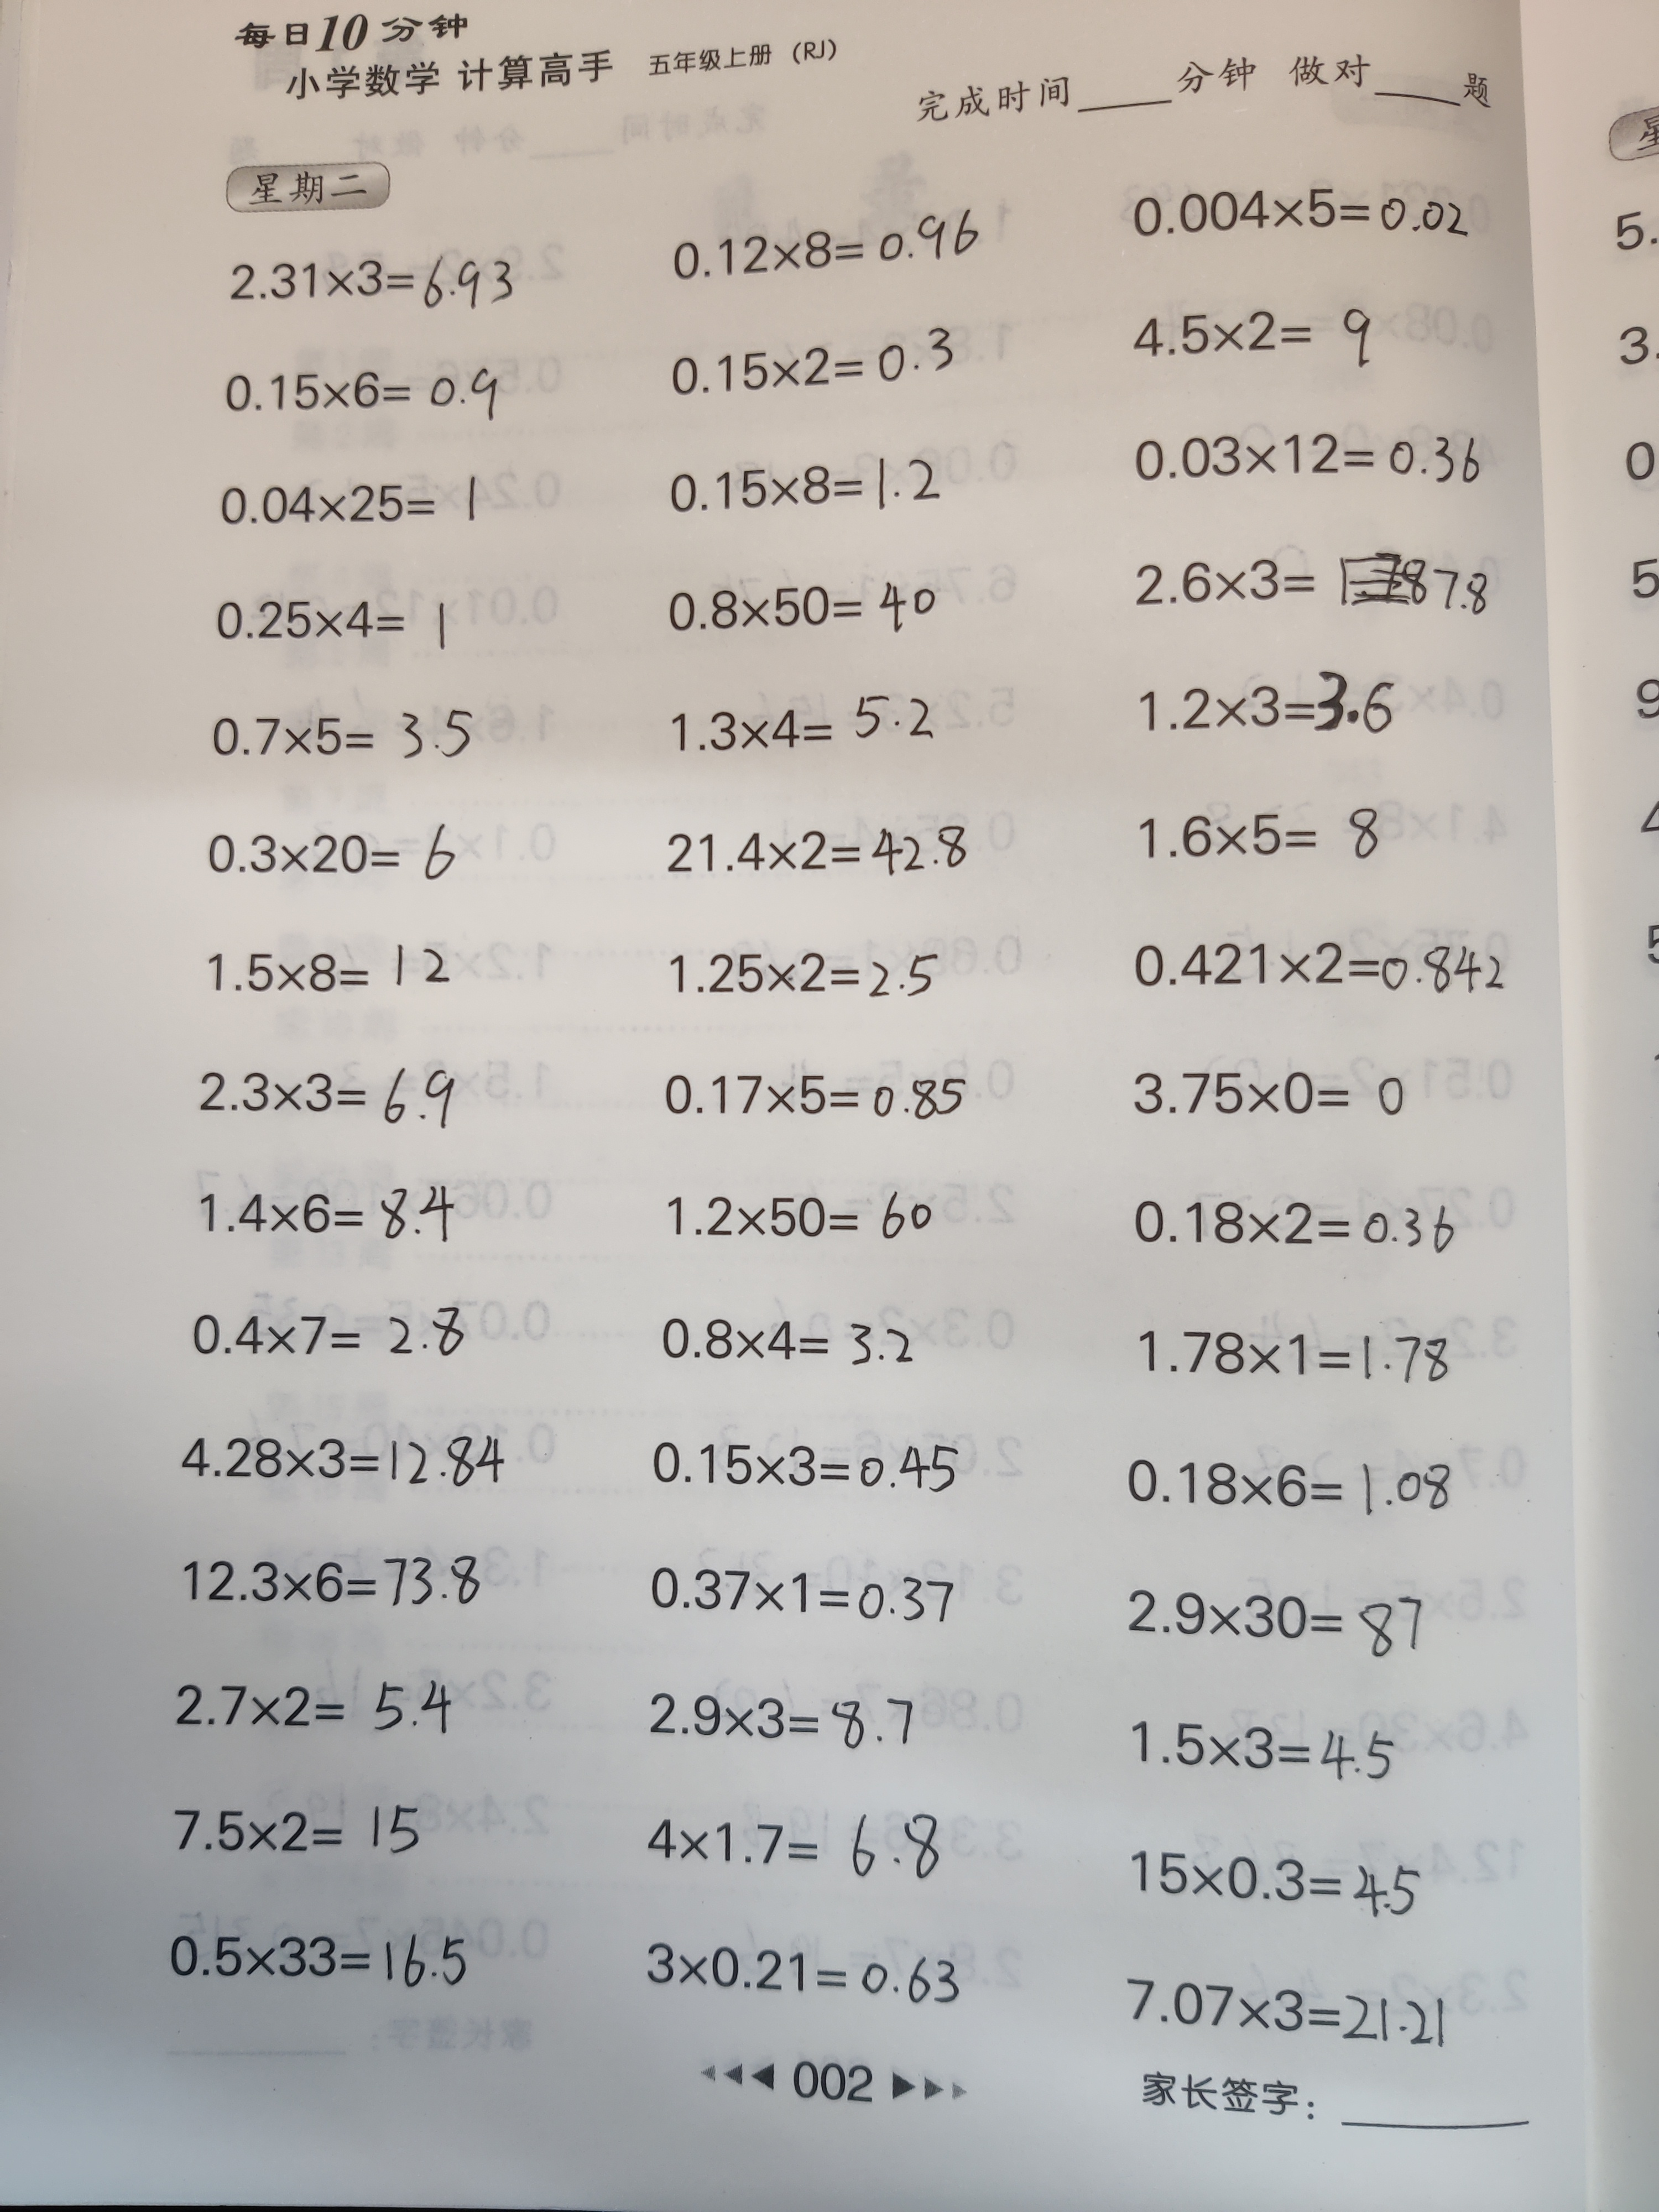equation: (1112, 923, 1523, 1022), (1100, 1954, 1466, 2066), (1117, 169, 1485, 272), (629, 1926, 974, 2034), (160, 1914, 493, 2024), (636, 1799, 962, 1911), (1112, 1440, 1459, 1543), (1101, 1827, 1429, 1933), (1124, 1308, 1462, 1411), (633, 1548, 967, 1651), (1122, 421, 1499, 512), (1117, 1183, 1473, 1277), (174, 1531, 504, 1632), (655, 435, 962, 542), (1117, 293, 1408, 402), (669, 195, 1004, 289), (1114, 1702, 1410, 1806), (1114, 1049, 1420, 1144), (1129, 650, 1415, 752), (655, 930, 958, 1026), (1119, 1585, 1439, 1676), (169, 1416, 516, 1500), (207, 239, 533, 327), (652, 1055, 974, 1144), (636, 1679, 934, 1775), (638, 1301, 939, 1395), (662, 320, 967, 413), (657, 808, 983, 894), (643, 1428, 962, 1515), (166, 1669, 467, 1759), (181, 1291, 484, 1379), (181, 1057, 477, 1146), (211, 463, 497, 554), (650, 1174, 955, 1258), (655, 688, 962, 770), (645, 570, 948, 651), (195, 810, 471, 899), (214, 359, 521, 437), (195, 925, 471, 1012), (166, 1791, 436, 1876), (1110, 805, 1415, 880), (211, 700, 486, 782), (174, 1176, 465, 1252), (202, 590, 467, 665)
